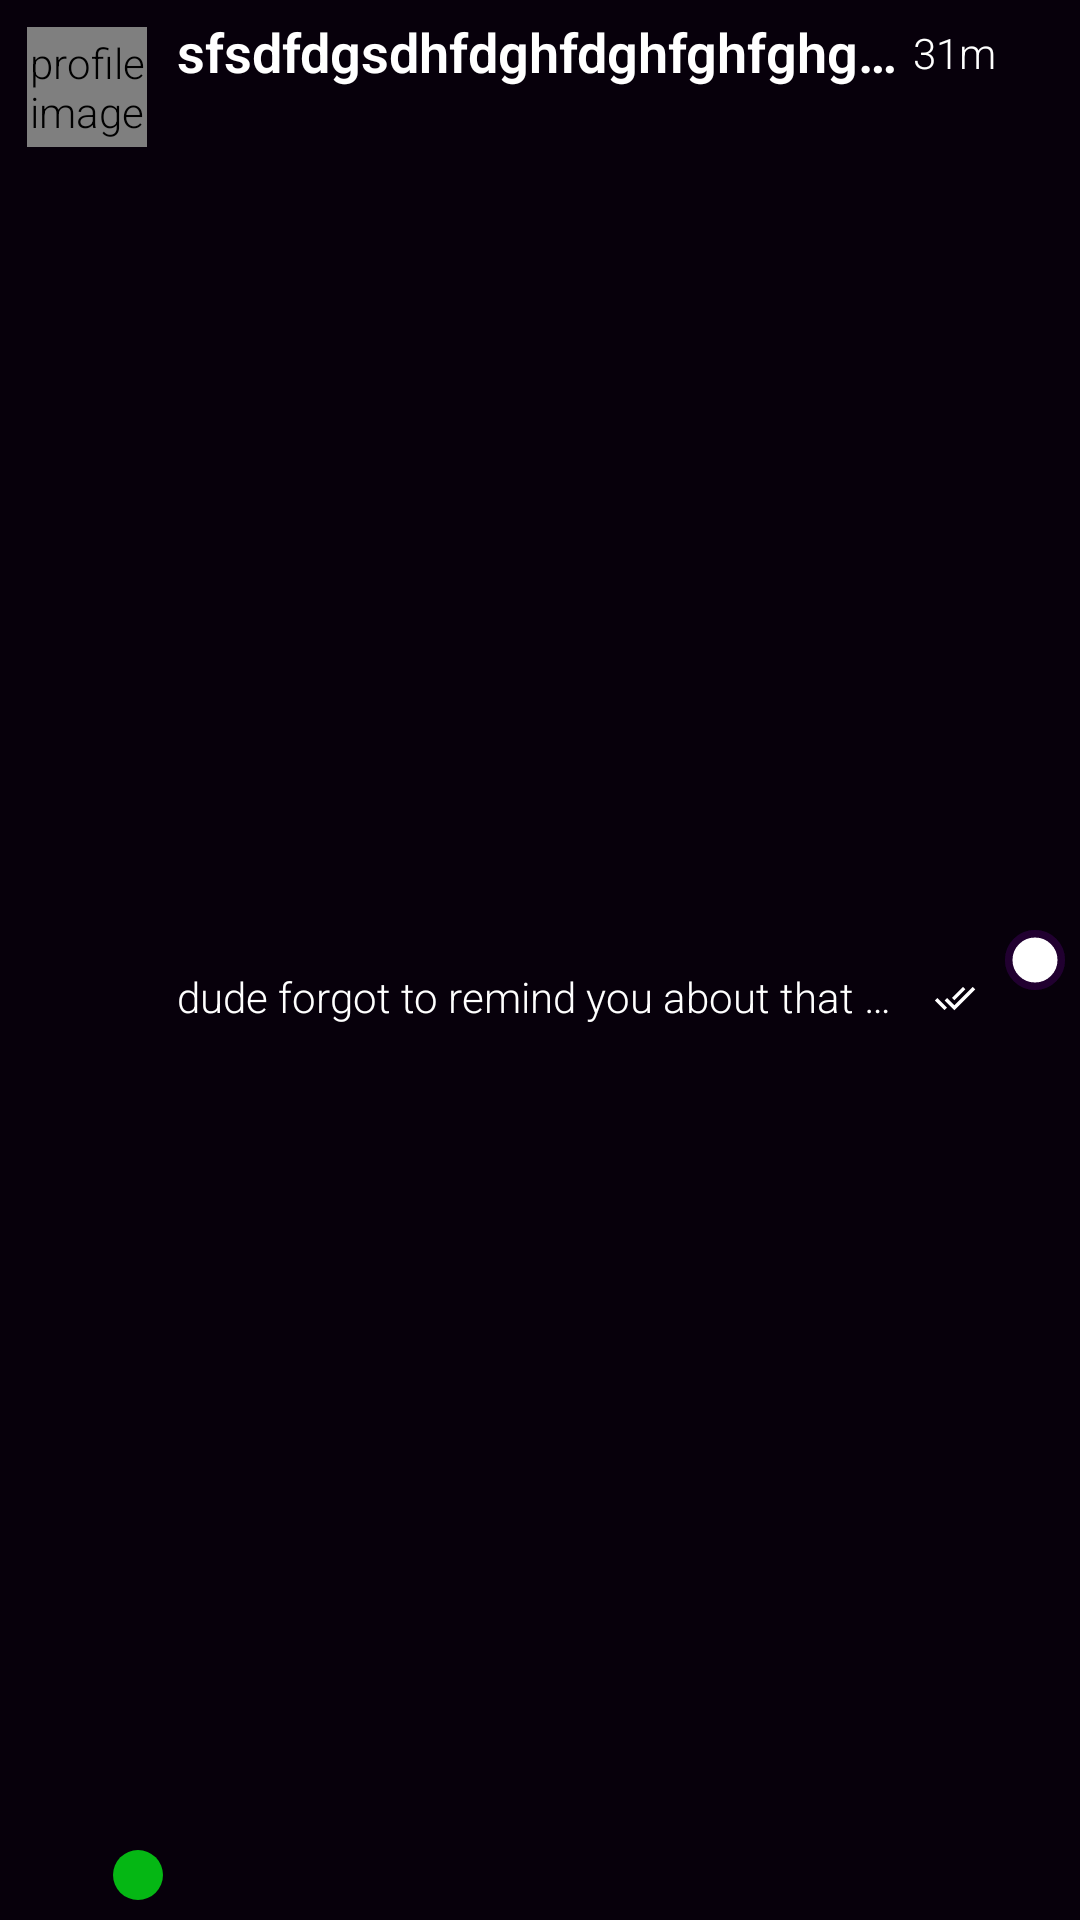

Screen size 1080*1920. Icon name, then its center in pixels as (x=x, y=y):
online: (x=138, y=1875)
to show when it is unread: (x=1035, y=960)
